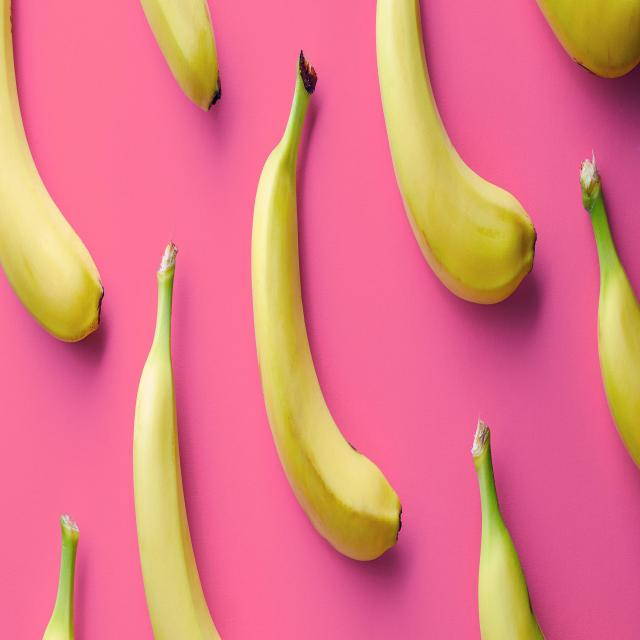banana: (247, 34, 406, 572), (371, 0, 543, 321), (126, 214, 232, 640)
